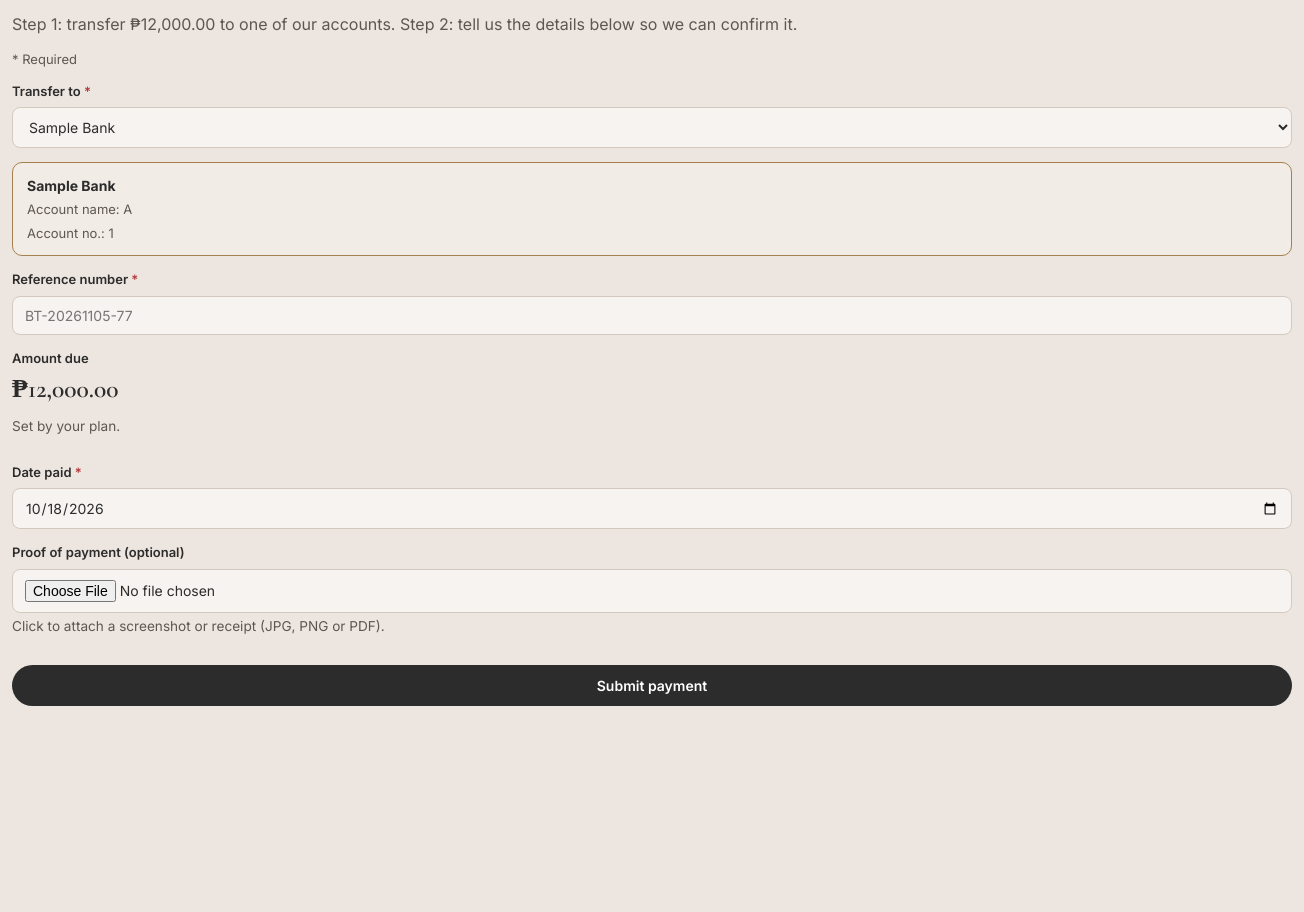
Test case: ManualPaymentForm › focuses the first invalid field and clears only the edited field error
The image size is (1304, 912).
Submit the form named "Reference number"
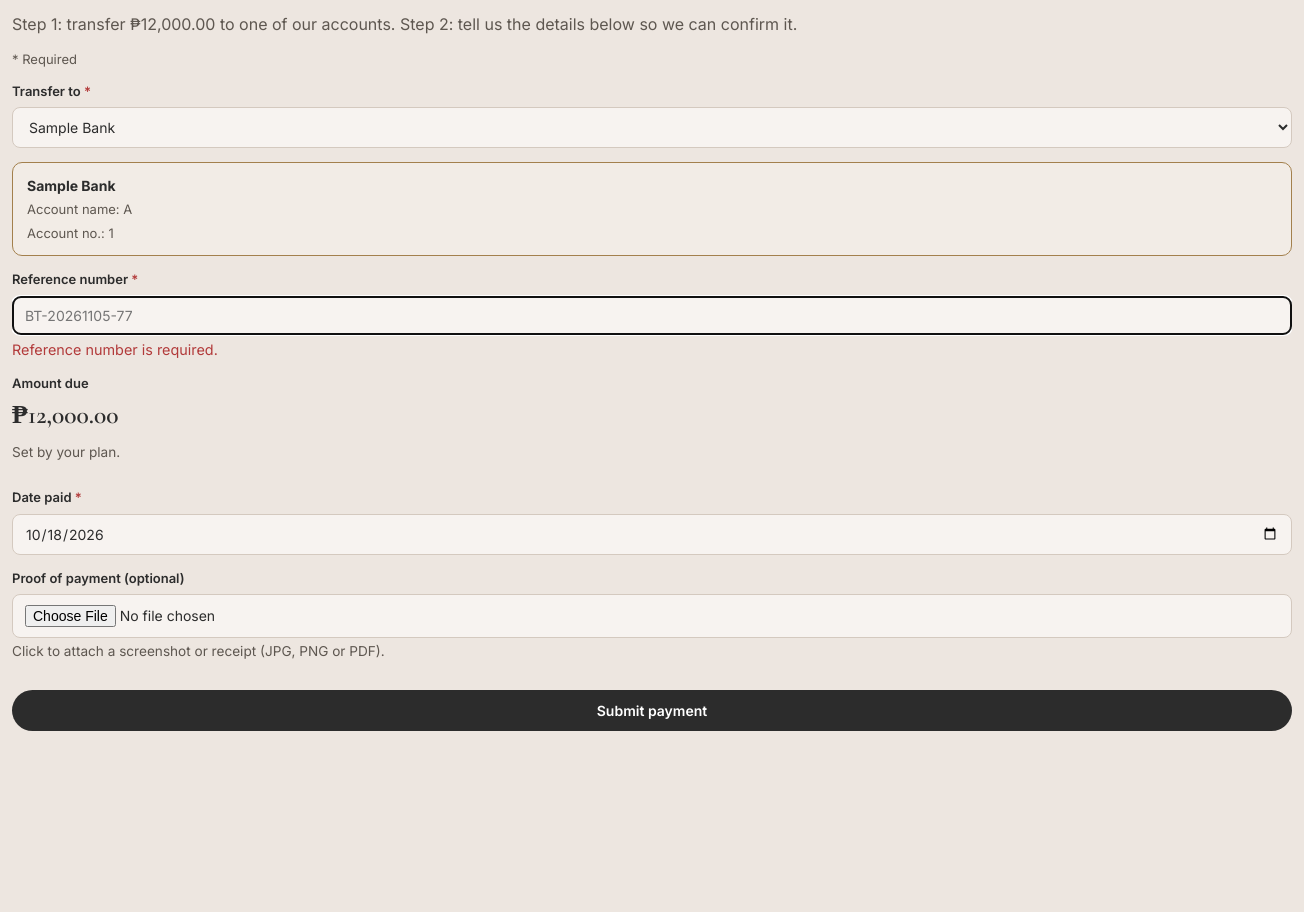
Now the text "Reference number is required." is shown, box [12,340,218,358]
Type "BT-1" into the field labelled "Reference number".
click(652, 315); type("BT-1")  # box [12,296,1292,334]
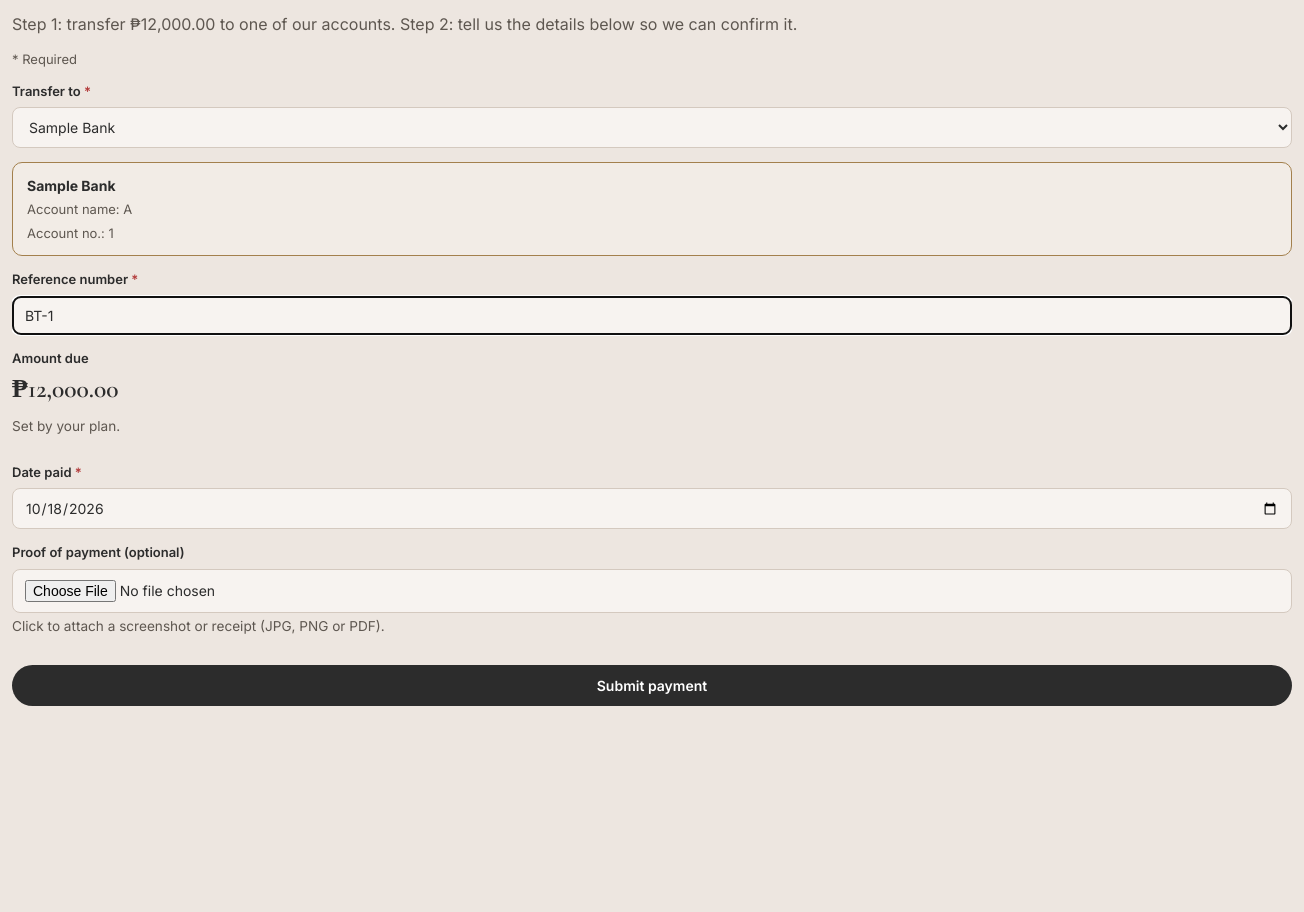
Now the text "Reference number is required." is gone
